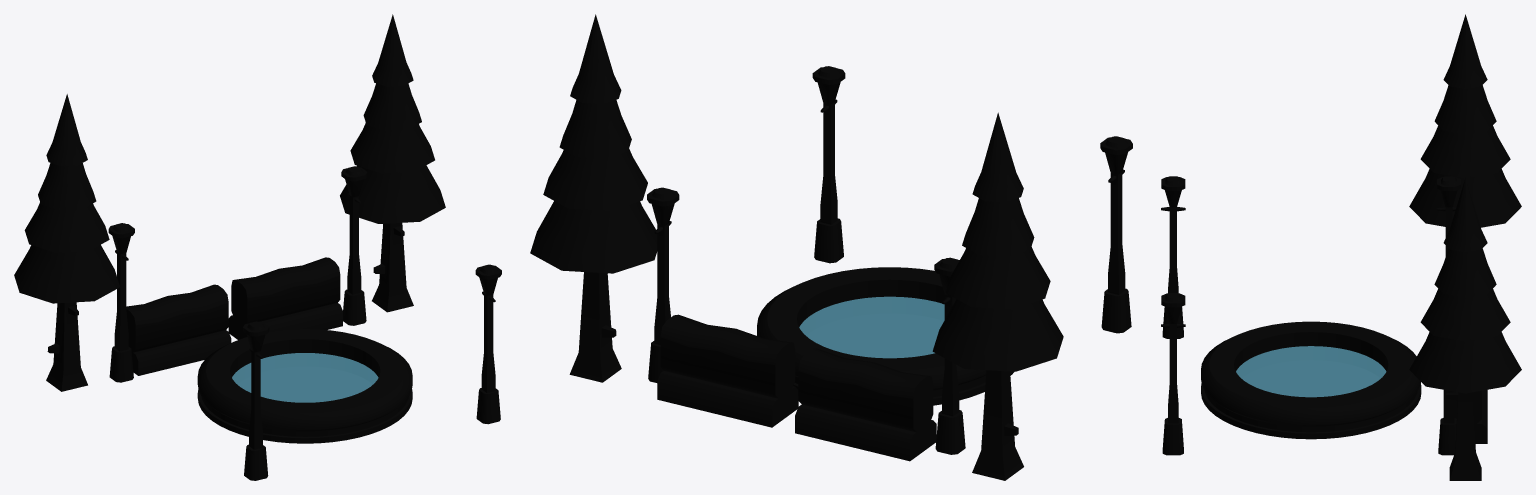
The model's file is fountain-square.glb.
The picture shows the model from 3 angles, left to right: view 1: azimuth 30°, elevation 25°; view 2: azimuth 150°, elevation 25°; view 3: azimuth 270°, elevation 25°; orthographic projection. The views are drawn at different scales.
Parts seen in each view (by area): view 1: fountain-round, (%ignore); view 2: fountain-round, (%ignore); view 3: fountain-round, (%ignore).
Boxes of the visible parts, bbox=[...] form: fountain-round: bbox=[14, 14, 501, 480]; (%ignore): bbox=[232, 353, 378, 402]; fountain-round: bbox=[530, 14, 1132, 480]; (%ignore): bbox=[799, 296, 944, 358]; fountain-round: bbox=[1161, 14, 1521, 480]; (%ignore): bbox=[1236, 346, 1386, 397].
Bounding box in the file's own units: 4.52 × 2.97 × 3.27.
2 materials, 1 textured.
